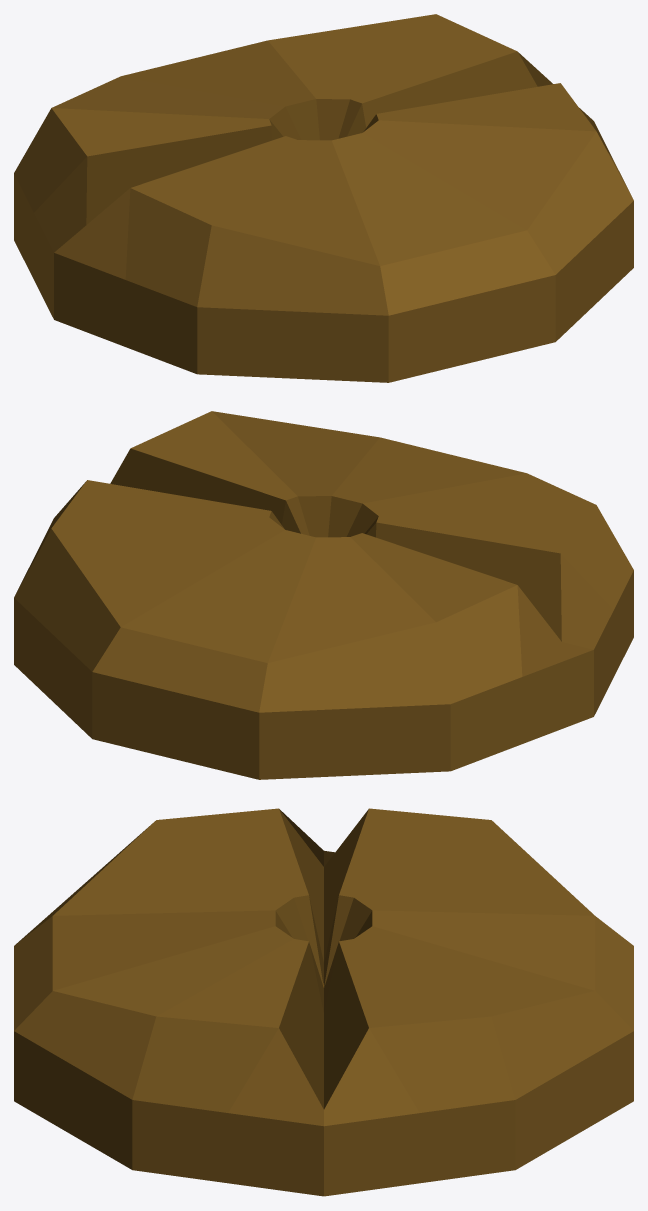
File: baseplate.gltf
3 renders of one model, top to bottom at view 1: azimuth 30°, elevation 25°; view 2: azimuth 150°, elevation 25°; view 3: azimuth 270°, elevation 25°, orthographic. The views are drawn at different scales.
Parts seen in each view (by area): view 1: cylinder; view 2: cylinder; view 3: cylinder.
Part boxes in pixels (x1,y1,x2,y2): cylinder: (14,14,633,382); cylinder: (14,411,633,779); cylinder: (14,808,633,1196).
Bounding box in the file's own units: 1.05 × 0.25 × 1.
Materials: 1 (1 with a texture image).
